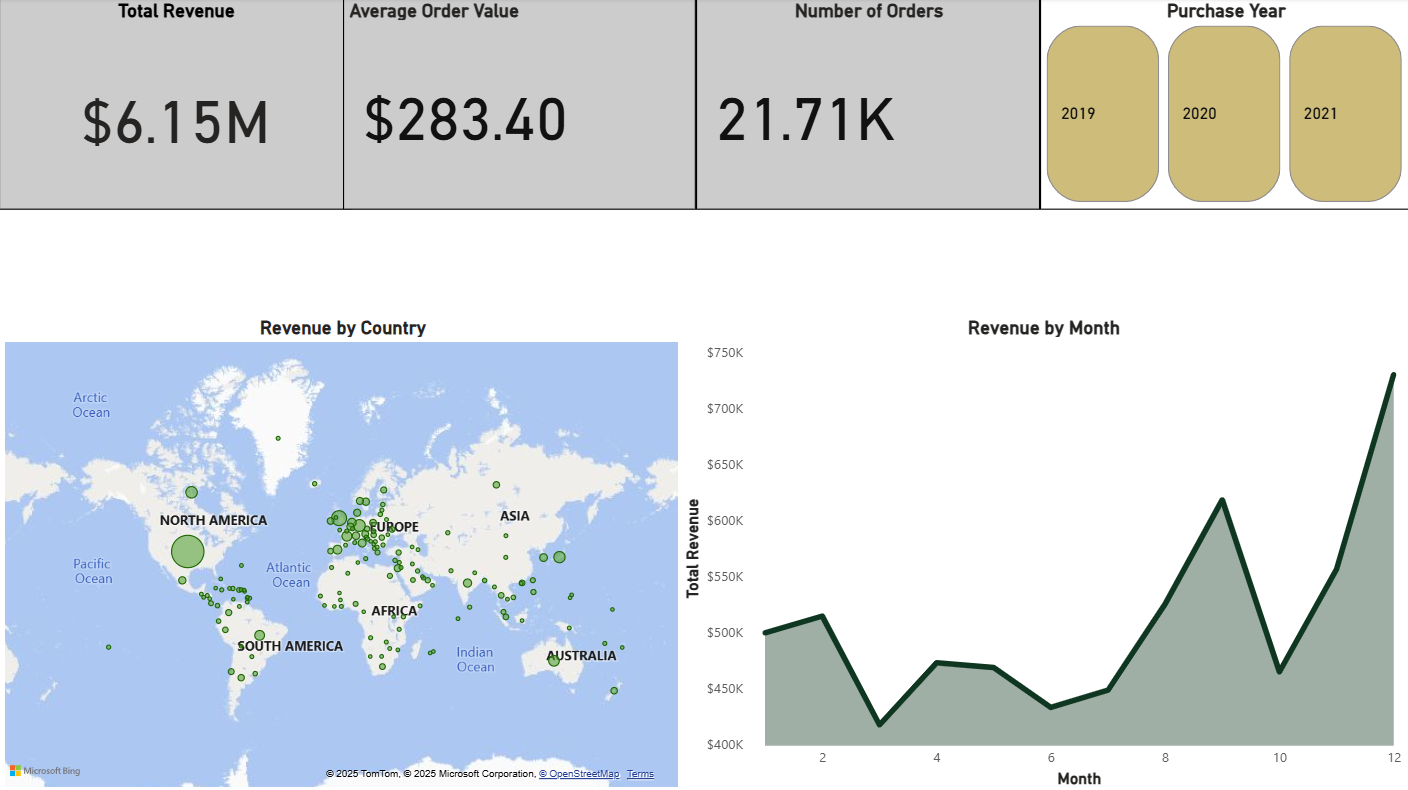

The dashboard page shown, as its layout file describes it:
{"tool":"powerbi","page":{"name":"Overview","canvas":[1280,720],"ordinal":0},"visuals":[{"type":"card","title":"Total Revenue","fields":{"Values":["Sum(public orders.usd_price)"]},"box":[0,0,320,192],"z":0},{"type":"cardVisual","title":"Number of Orders","fields":{"Data":["Count(public orders.order_id)"]},"box":[632,0,312,192],"z":1000},{"type":"map","title":"Revenue by Country","fields":{"Size":["Sum(public orders.usd_price)"],"Category":["Geography.iso3_code"]},"box":[0,288,624,432],"z":2000},{"type":"lineChart","title":"Revenue by Month","fields":{"Y":["Sum(public orders.usd_price)"],"Category":["public orders.purchase_month"]},"box":[616,288,664,432],"z":3000},{"type":"advancedSlicerVisual","title":"Purchase Year","fields":{"Values":["public orders.purchase_year"]},"box":[944,0,336,192],"z":4000},{"type":"cardVisual","title":"Average Order Value","fields":{"Data":["public orders.AOV"]},"box":[312,0,320,192],"z":5000}]}

Visuals, with their boxes in screenshot pixels (x1, y1, x2, y2), scaled from the page's 1280x720 canvas onto the 1408x790 screenshot:
"Total Revenue" card: locate(0, 0, 352, 211)
"Number of Orders" cardVisual: locate(695, 0, 1038, 211)
"Revenue by Country" map: locate(0, 316, 686, 789)
"Revenue by Month" lineChart: locate(678, 316, 1407, 789)
"Purchase Year" advancedSlicerVisual: locate(1038, 0, 1407, 211)
"Average Order Value" cardVisual: locate(343, 0, 695, 211)
